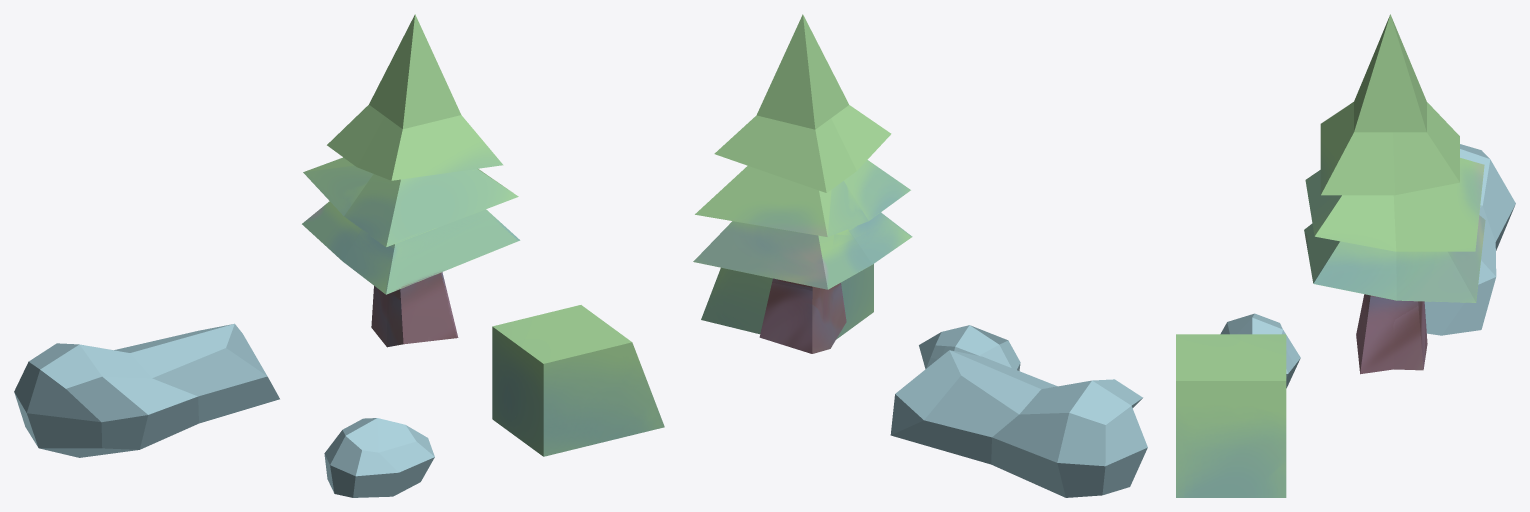
The picture shows the model from 3 angles, left to right: view 1: azimuth 30°, elevation 25°; view 2: azimuth 150°, elevation 25°; view 3: azimuth 270°, elevation 25°; orthographic projection. The views are drawn at different scales.
Visible parts, largest first — view 1: tree, stone big, arbusto, small stone; view 2: tree, stone big, arbusto, small stone; view 3: tree, arbusto, stone big, small stone.
Boxes of the visible parts, x1,y1,x2,y2 form: tree: (302, 14, 520, 347); stone big: (14, 323, 279, 457); arbusto: (492, 305, 664, 456); small stone: (324, 418, 434, 497); tree: (693, 14, 912, 353); stone big: (890, 350, 1147, 497); arbusto: (701, 264, 873, 339); small stone: (919, 325, 1020, 370); tree: (1304, 14, 1485, 374); arbusto: (1176, 334, 1286, 497); stone big: (1424, 144, 1515, 335); small stone: (1220, 313, 1300, 388).
Bounding box in the file's own units: 1163 × 863 × 617.
3 materials, 3 textured.
